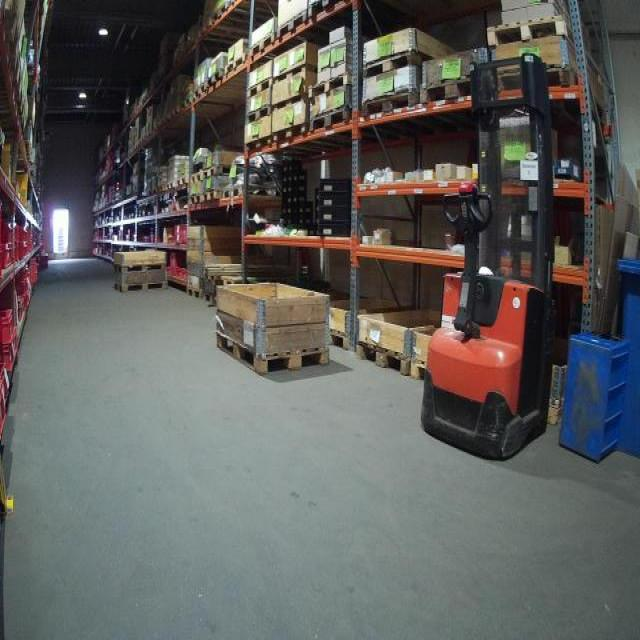pallet: (216, 324, 329, 373), (494, 67, 589, 101), (488, 15, 586, 47), (418, 76, 490, 107), (357, 338, 408, 379), (360, 46, 437, 71), (362, 91, 426, 118), (310, 103, 356, 140), (308, 67, 359, 100), (277, 14, 311, 50), (271, 120, 307, 152), (272, 61, 313, 87), (249, 27, 274, 69), (308, 0, 349, 22), (241, 101, 275, 127), (324, 324, 353, 354), (114, 279, 170, 293), (246, 76, 272, 102), (222, 56, 247, 83), (206, 162, 247, 177), (410, 360, 434, 385), (199, 273, 245, 286), (246, 138, 269, 157), (279, 93, 308, 108), (115, 263, 164, 270), (193, 78, 210, 98), (203, 188, 229, 201), (201, 294, 221, 310), (224, 183, 251, 194), (187, 289, 203, 303), (208, 71, 220, 89), (189, 172, 206, 183), (193, 191, 204, 206)
pallet_truck: (416, 48, 564, 471)
small_load_carrier: (316, 216, 355, 240), (318, 202, 356, 222), (316, 189, 354, 208), (319, 177, 355, 195), (3, 306, 14, 343)
